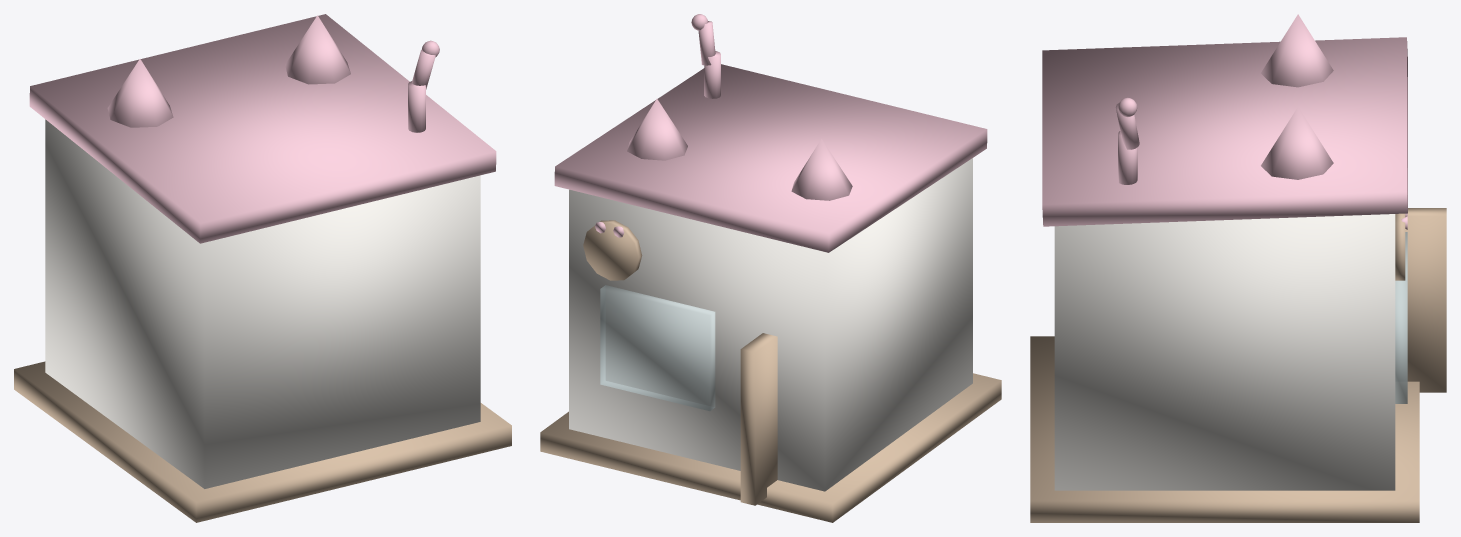
File: cat_cafe_lv3.glb
The picture shows the model from 3 angles, left to right: view 1: azimuth 30°, elevation 25°; view 2: azimuth 150°, elevation 25°; view 3: azimuth 270°, elevation 25°; orthographic projection. The views are drawn at different scales.
Parts seen in each view (by area): view 1: body, roof, floor, ear_r, ear_l, tail_chimney_p1; view 2: body, roof, floor, window_cat, door, cat_sign, ear_r, ear_l, tail_chimney_p1, tail_chimney_p2; view 3: body, roof, floor, door, ear_r, ear_l, window_cat, tail_chimney_p1, cat_sign, tail_chimney_p2.
Boxes of the visible parts, x1,y1,x2,y2 form: body: (45,119,480,488); roof: (29,14,496,243); floor: (14,361,511,522); ear_r: (285,15,350,84); ear_l: (107,59,173,127); tail_chimney_p1: (408,81,425,132); body: (569,158,972,491); roof: (554,64,987,252); floor: (540,373,1001,522); window_cat: (600,285,715,411); door: (740,333,777,505); cat_sign: (583,220,642,280); ear_r: (627,99,687,160); ear_l: (791,139,852,200); tail_chimney_p1: (704,51,720,98); tail_chimney_p2: (698,21,715,65); body: (1054,214,1395,490); roof: (1042,37,1407,226); floor: (1030,336,1419,522); door: (1405,208,1446,392); ear_r: (1261,107,1333,179); ear_l: (1261,14,1333,87); window_cat: (1395,232,1407,403); tail_chimney_p1: (1118,131,1137,184); cat_sign: (1395,213,1405,280); tail_chimney_p2: (1115,102,1139,149).
Bounding box in the file's own units: 1.6 × 1.84 × 1.71.
